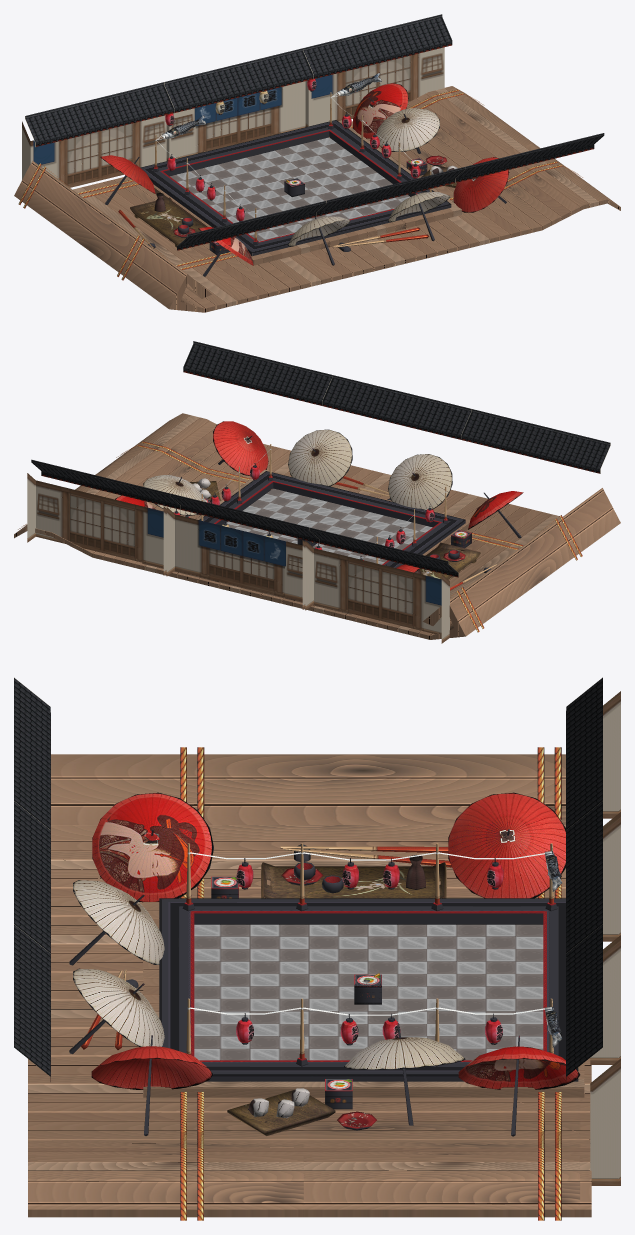
3 renders of one model, top to bottom at view 1: azimuth 30°, elevation 25°; view 2: azimuth 150°, elevation 25°; view 3: azimuth 270°, elevation 25°, orthographic. The views are drawn at different scales.
Parts seen in each view (by area): view 1: Box12, Box07, 对象01; view 2: Box12, Box07, 对象01; view 3: Box12, Box07, 对象01.
Boxes of the visible parts, bbox=[...] form: Box12: bbox=[18, 14, 604, 280]; Box07: bbox=[14, 86, 620, 312]; 对象01: bbox=[170, 137, 409, 241]; Box12: bbox=[18, 341, 610, 643]; Box07: bbox=[14, 413, 620, 639]; 对象01: bbox=[226, 488, 432, 564]; Box12: bbox=[14, 677, 620, 1220]; Box07: bbox=[28, 754, 591, 1217]; 对象01: bbox=[194, 924, 543, 1060].
Size of the model in its own units: 3139 by 560 by 1969.
